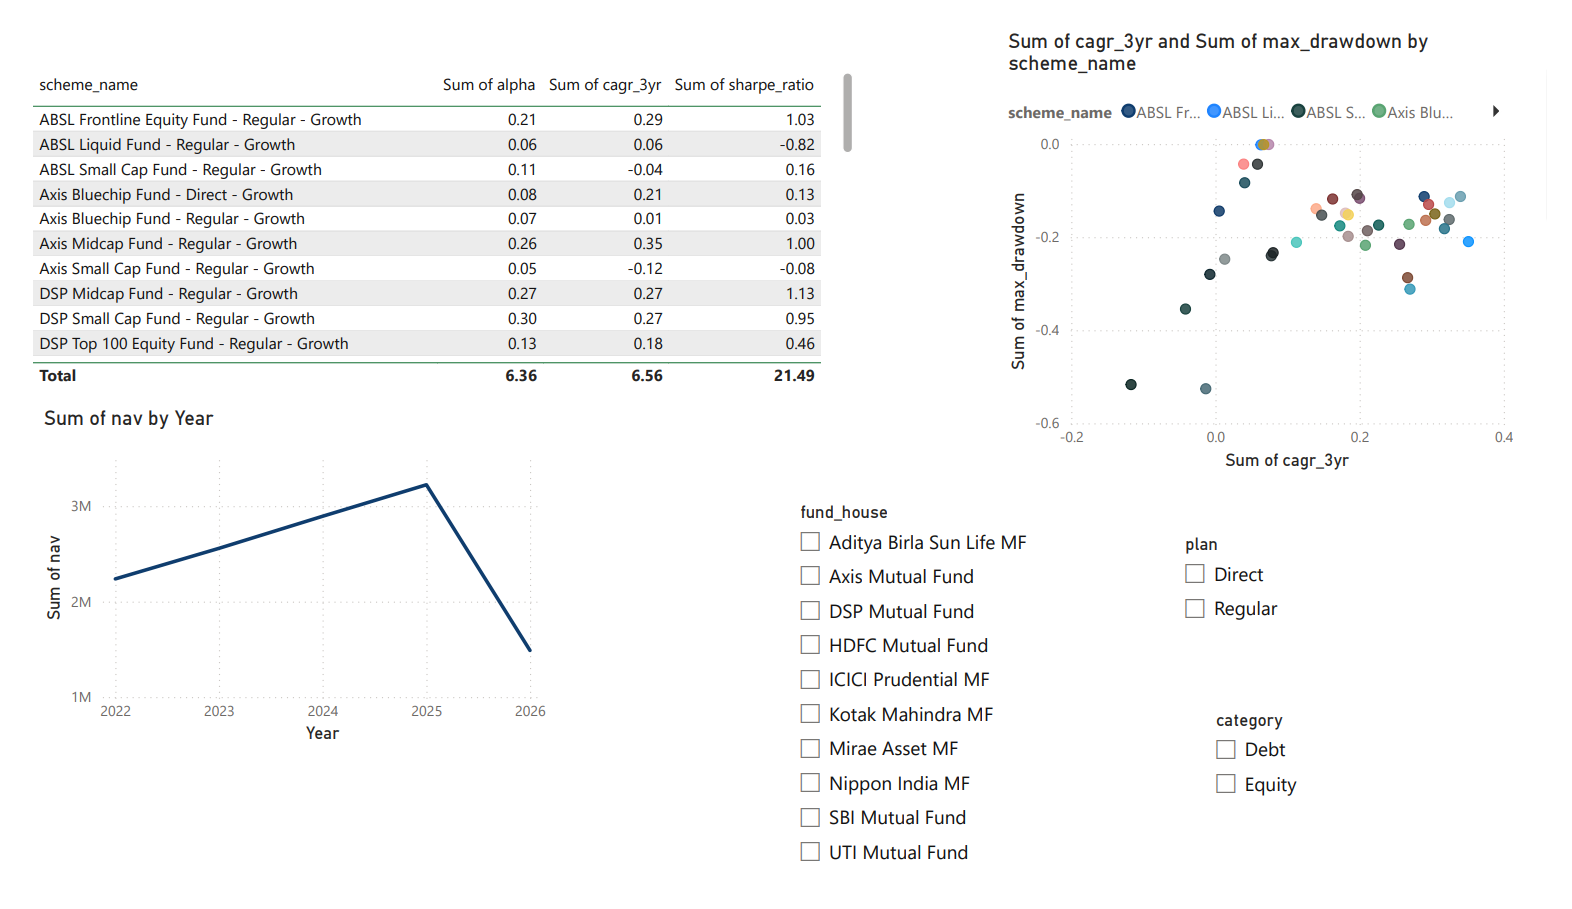

What the dashboard file says about the page in this screenshot:
{"tool":"powerbi","page":{"name":"Fund Performance","canvas":[1280,720],"ordinal":1},"visuals":[{"type":"scatterChart","fields":{"X":["Sum(fund_scorecard.cagr_3yr)"],"Y":["Sum(fund_scorecard.max_drawdown)"],"Series":["fund_scorecard.scheme_name"]},"box":[822,0,435,376],"z":0},{"type":"tableEx","fields":{"Values":["fund_scorecard.scheme_name","Sum(fund_scorecard.alpha)","Sum(fund_scorecard.cagr_3yr)","Sum(fund_scorecard.sharpe_ratio)"]},"box":[0,31.6,701.2,275.8],"z":1000},{"type":"lineChart","fields":{"Category":["clean_nav.date.Variation.Date Hierarchy.Year","clean_nav.date.Variation.Date Hierarchy.Quarter","clean_nav.date.Variation.Date Hierarchy.Month","clean_nav.date.Variation.Date Hierarchy.Day"],"Y":["Sum(clean_nav.nav)"]},"box":[9.6,318.4,432.2,288.2],"z":2000},{"type":"slicer","fields":{"Values":["clean_01_fund_master.fund_house"]},"box":[639.5,393.8,281.3,326.6],"z":3000},{"type":"slicer","fields":{"Values":["clean_01_fund_master.plan"]},"box":[963.3,421.3,293.7,138.6],"z":4000},{"type":"slicer","fields":{"Values":["clean_01_fund_master.category"]},"box":[989.4,569.5,241.5,119.4],"z":5000}]}

Visuals, with their boxes in screenshot pixels (x1, y1, x2, y2), scaled from the page's 1280x720 canvas onto the 1572x909 screenshot:
scatterChart - Sum(fund_scorecard.cagr_3yr) x Sum(fund_scorecard.max_drawdown): (left=1010, top=0, right=1544, bottom=475)
tableEx - fund_scorecard.scheme_name x Sum(fund_scorecard.alpha): (left=0, top=40, right=861, bottom=388)
lineChart - clean_nav.date.Variation.Date Hierarchy.Year x clean_nav.date.Variation.Date Hierarchy.Quarter: (left=12, top=402, right=543, bottom=766)
slicer - clean_01_fund_master.fund_house: (left=785, top=497, right=1131, bottom=908)
slicer - clean_01_fund_master.plan: (left=1183, top=532, right=1544, bottom=707)
slicer - clean_01_fund_master.category: (left=1215, top=719, right=1512, bottom=870)
